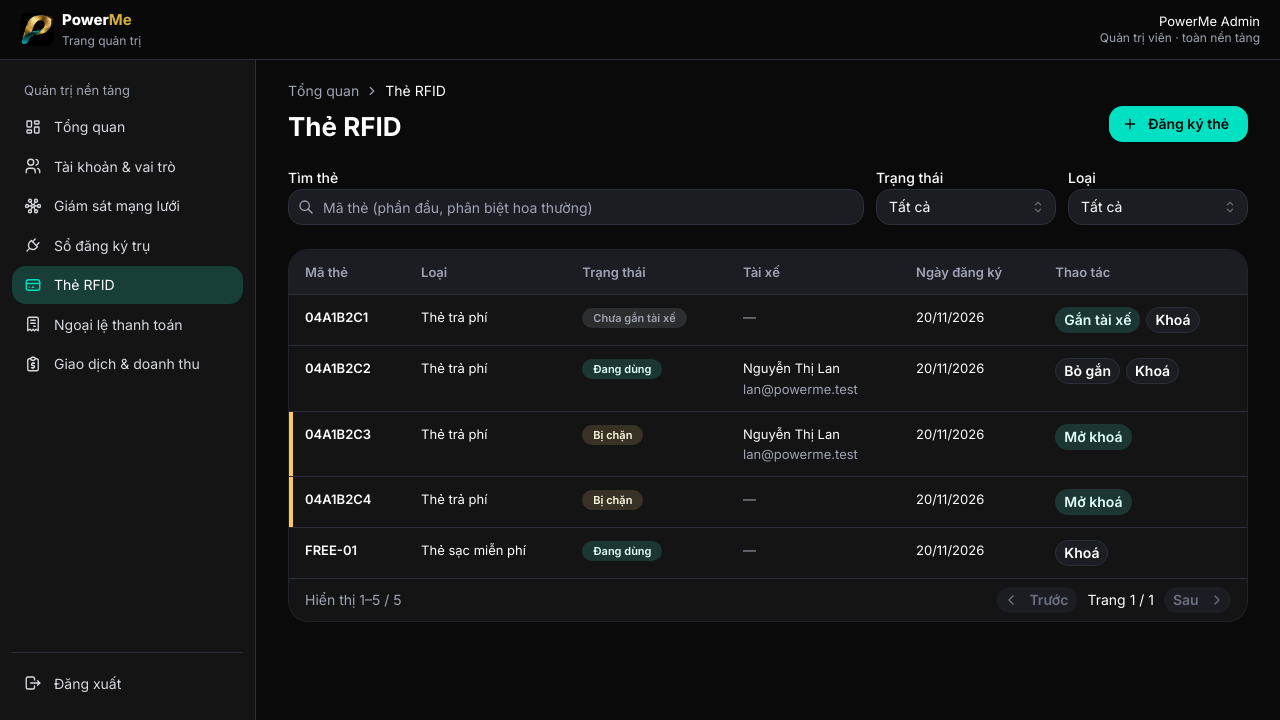
Test: Thẻ RFID (màn 30) › block and unlink ask first, then PATCH status / driver_id
The width and height of the screenshot is (1280, 720).
Click the button "Khoá" in the row of "04A1B2C2" at (1153, 371), box [1126,358,1179,384]
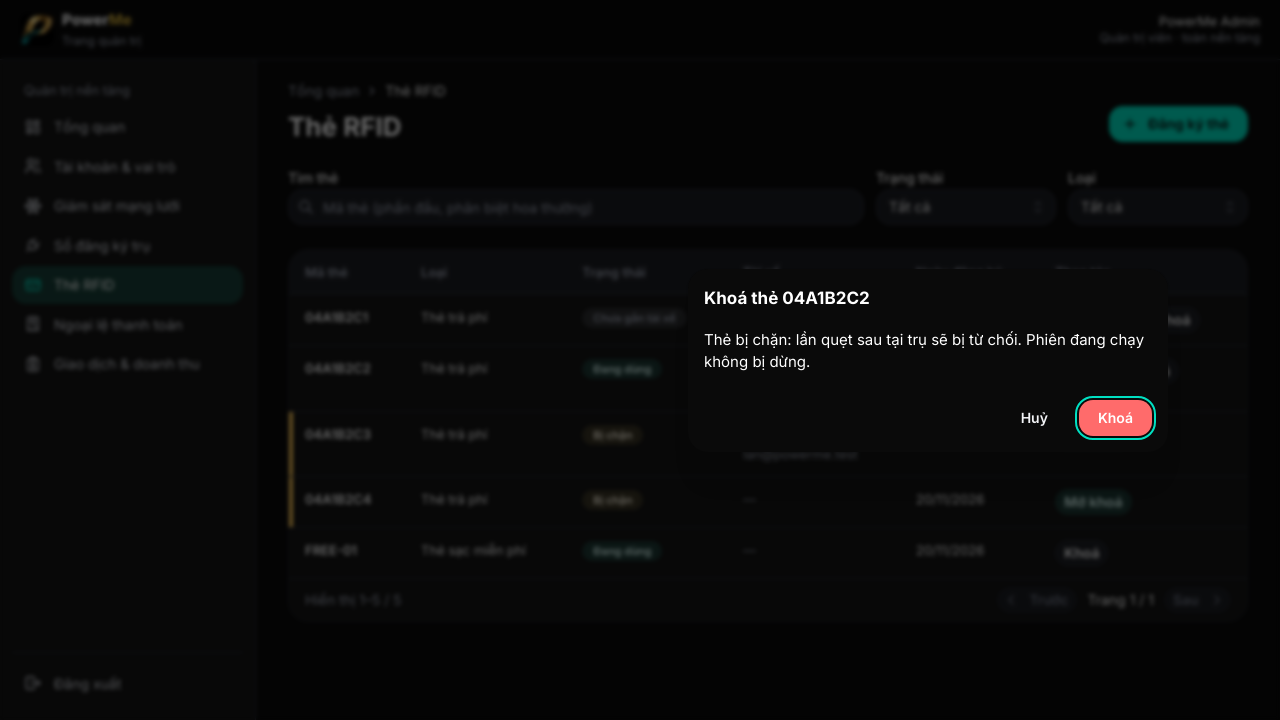
Click the button "Khoá" at (1115, 418), box [1079,400,1152,436]
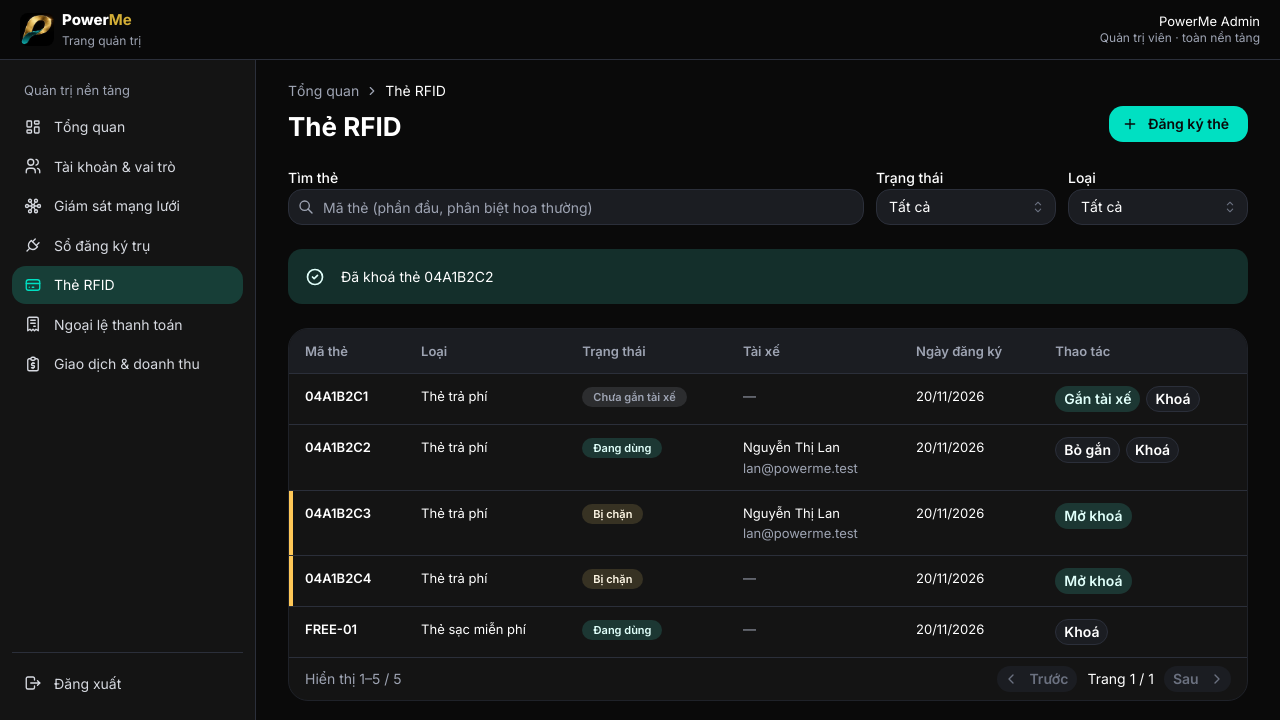
Now the text "Đã khoá thẻ 04A1B2C2" is shown, box [341,268,494,285]
Click the button "Bỏ gắn" at (1088, 450), box [1055,437,1120,463]
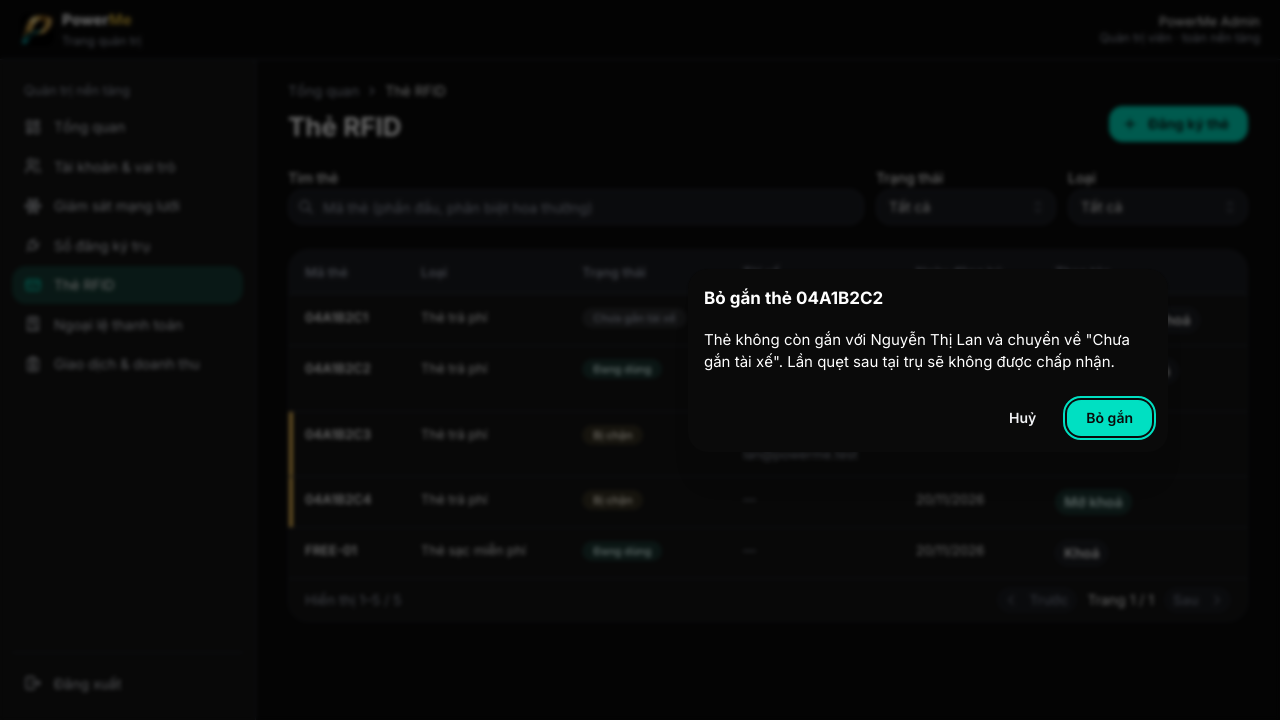
Now the text "Nguyễn Thị Lan" is shown, box [870,330,982,348]
Click the button "Bỏ gắn" at (1110, 418), box [1067,400,1152,436]
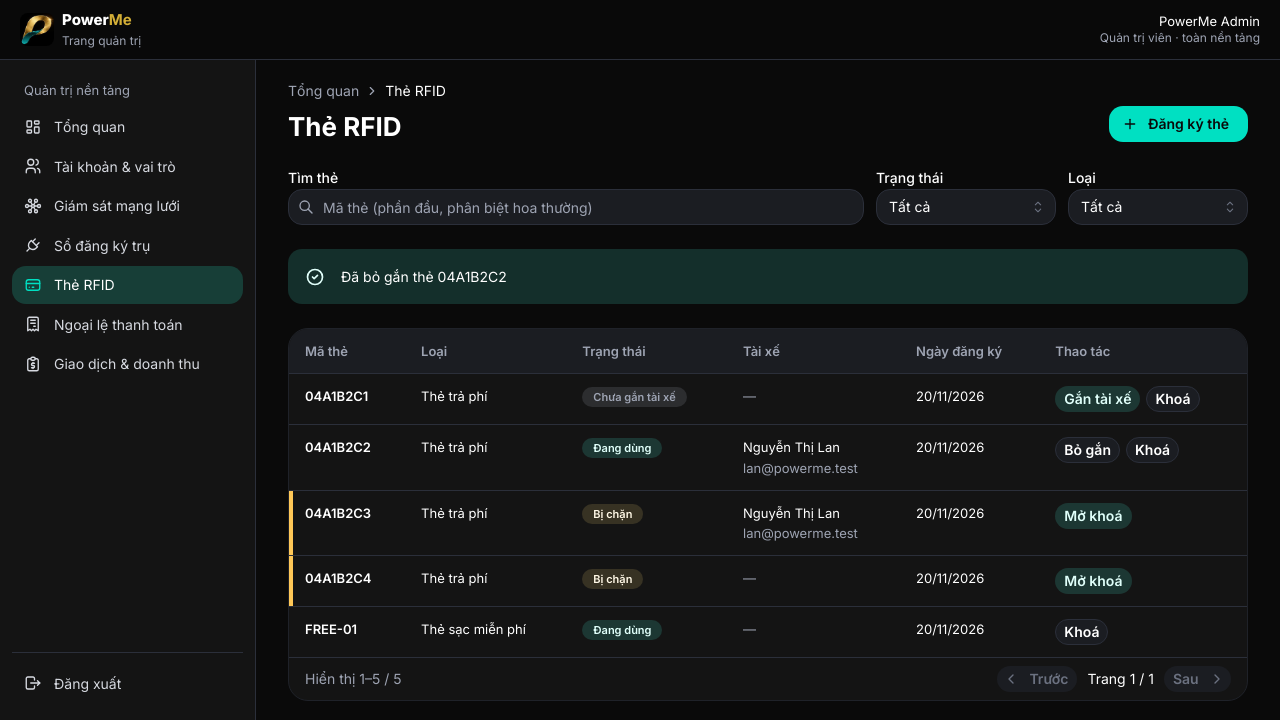
Now the text "Đã bỏ gắn thẻ 04A1B2C2" is shown, box [341,268,507,285]
